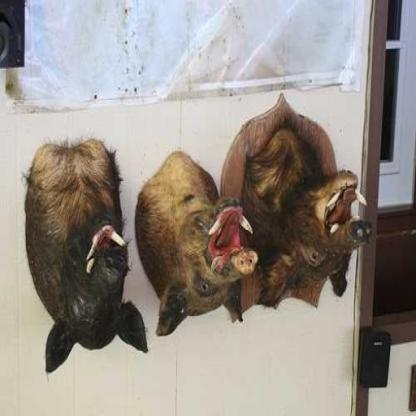boar: (37, 147, 139, 379)
